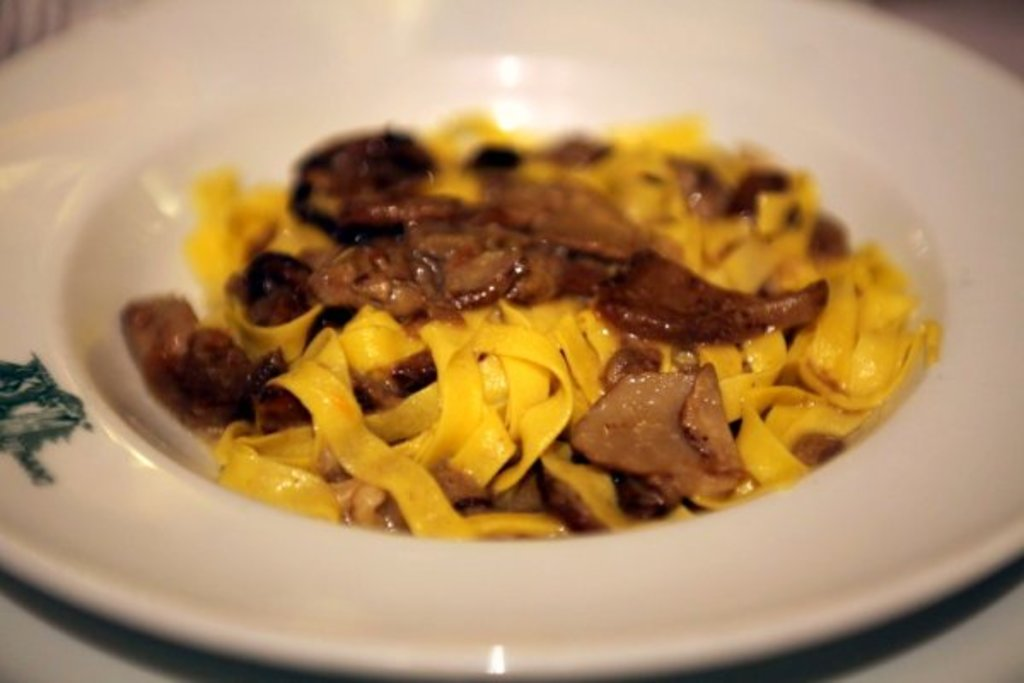pasta: (159, 96, 930, 545)
